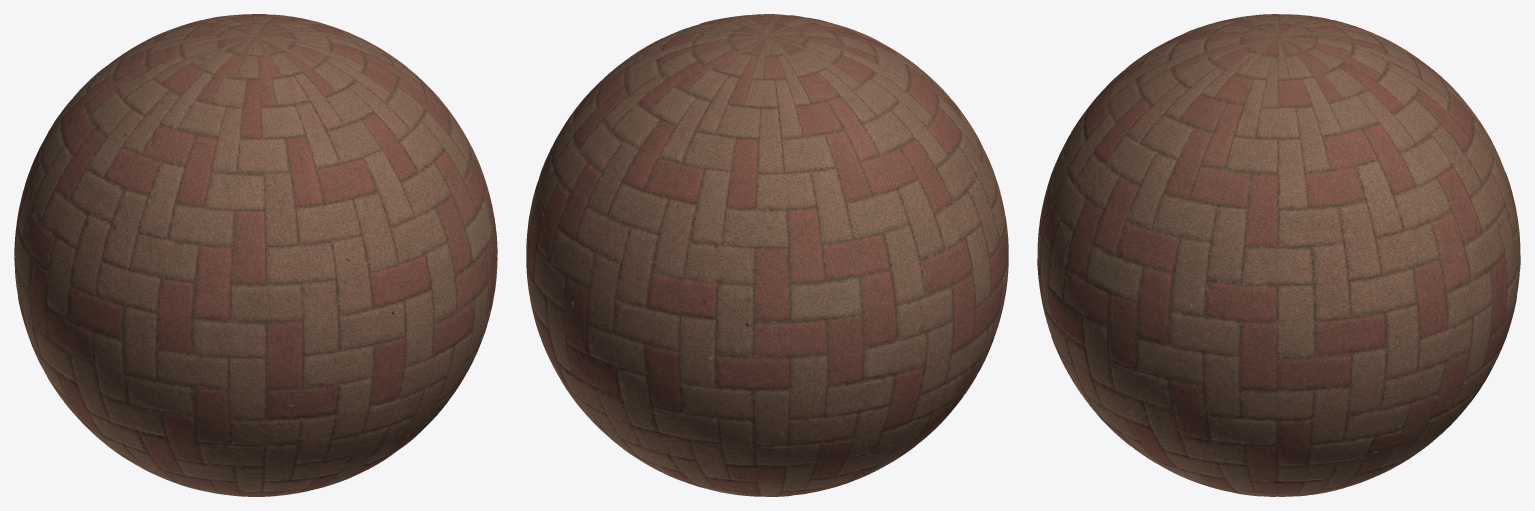
File: herringbone_brick_03_1k.gltf
3 renders of one model, left to right at view 1: azimuth 30°, elevation 25°; view 2: azimuth 150°, elevation 25°; view 3: azimuth 270°, elevation 25°, orthographic.
Parts seen in each view (by area): view 1: sphere_gltf; view 2: sphere_gltf; view 3: sphere_gltf.
Boxes of the visible parts, <box> form: sphere_gltf: <box>14,14,497,496</box>; sphere_gltf: <box>526,14,1008,496</box>; sphere_gltf: <box>1037,14,1520,496</box>.
Bounding box in the file's own units: 1.98 × 1.98 × 1.98.
Materials: 1 (1 with a texture image).
